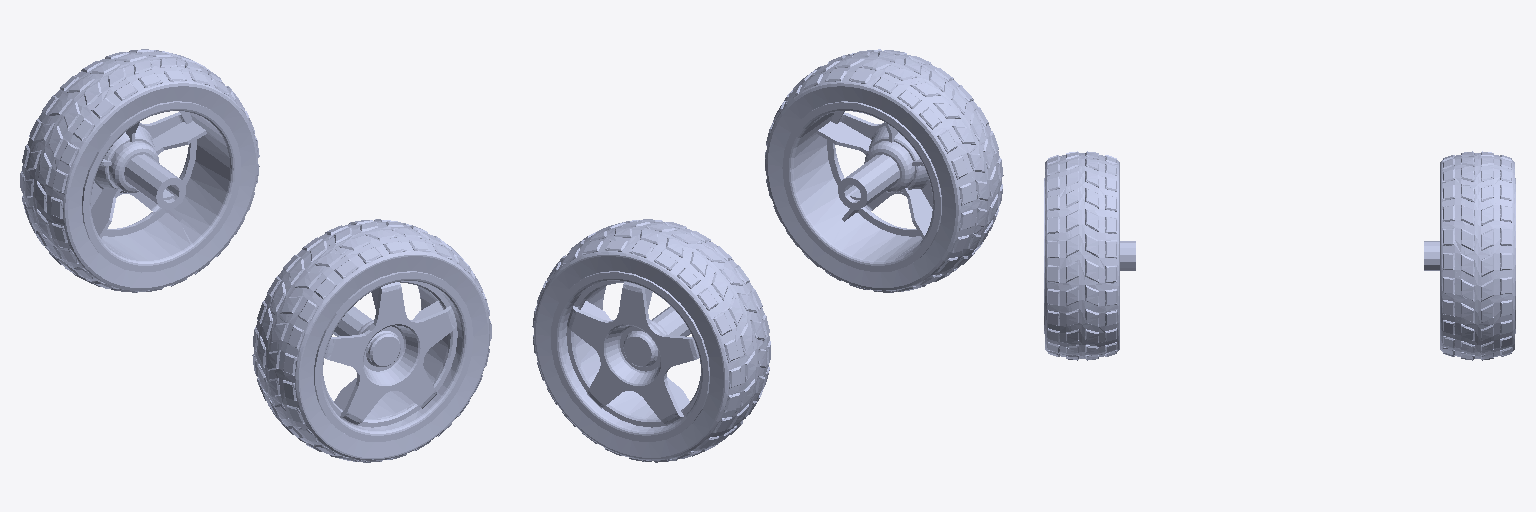
robot.urdf — Atlas:
<?xml version="1.0" encoding="utf-8"?>
<!-- This URDF was automatically created by SolidWorks to URDF Exporter! Originally created by [author] ([email redacted]) 
     Commit Version: 1.6.0-1-g15f4949  Build Version: 1.6.7594.29634
     For more information, please see http://wiki.ros.org/sw_urdf_exporter 
     
     This version contains CONTINUOUS joints for visualization. It also contains a dummy link-->
<robot
  name="Atlas">
  <!-- Create a dummy link -->
  <link name="dummy_link"/>
  <joint name="dummy_joint" type="fixed">
    <parent link="dummy_link"/>
    <child link="base"/>
  </joint>
  <link
    name="base">
    <inertial>
      <origin
        xyz="-0.000212909415452442 0.0141353979927346 0.0286449785299869"
        rpy="1.5708 0 -1.5708" />
      <mass
        value="0.499281541152724" />
      <inertia
        ixx="0.0003977555784519"
        ixy="-1.28352546731864E-06"
        ixz="-1.07524080810202E-08"
        iyy="0.000455844917654945"
        iyz="3.25184720260079E-07"
        izz="0.000828962036935886" />
    </inertial>
    <visual>
      <origin
        xyz="0 0 0"
        rpy="1.5708 0 -1.5708" />
      <geometry>
        <mesh
          filename="package://cs133a_project/meshes/base_link.obj" />
      </geometry>
      <material
        name="">
        <color
          rgba="0.792156862745098 0.819607843137255 0.933333333333333 1" />
      </material>
    </visual>
    <collision>
      <origin
        xyz="0 0 0"
        rpy="1.5708 0 -1.5708" />
      <geometry>
        <mesh
          filename="package://cs133a_project/meshes/base_link.obj" />
      </geometry>
    </collision>
  </link>
  <link
    name="lwheel">
    <inertial>
      <origin
        xyz="-1.87554312358618E-10 1.86289956377594E-08 0.018127012381905"
        rpy="0 0 0" />
      <mass
        value="0.166945648009266" />
      <inertia
        ixx="6.72926923359967E-05"
        ixy="2.20526901917458E-10"
        ixz="9.50965859543208E-15"
        iyy="6.72964003560096E-05"
        iyz="-3.21802216170622E-12"
        izz="0.000113206411587865" />
    </inertial>
    <visual>
      <origin
        xyz="0 0 0"
        rpy="0 0 0" />
      <geometry>
        <mesh
          filename="package://cs133a_project/meshes/wheel.obj" />
      </geometry>
      <material
        name="">
        <color
          rgba="0.792156862745098 0.819607843137255 0.933333333333333 1" />
      </material>
    </visual>
    <collision>
      <origin
        xyz="0 0 0"
        rpy="0 0 0" />
      <geometry>
        <mesh
          filename="package://cs133a_project/meshes/wheel.obj" />
      </geometry>
    </collision>
  </link>
  <joint
    name="lwheel_joint"
    type="continuous">
    <origin
      xyz="0.0459 0.0776 -0.013"
      rpy="1.5708 0 -3.1415" />
    <parent
      link="base" />
    <child
      link="lwheel" />
    <axis
      xyz="0 0 1" />
  </joint>
  <link
    name="rwheel">
    <inertial>
      <origin
        xyz="1.86223433409904E-08 -6.26257727967539E-10 0.0181270123819041"
        rpy="0 0 0" />
      <mass
        value="0.166945648008949" />
      <inertia
        ixx="6.72963740376347E-05"
        ixy="-3.81485680665361E-10"
        ixz="-3.20558006910943E-12"
        iyy="6.72927186542622E-05"
        iyz="1.10863396748118E-13"
        izz="0.000113206411587755" />
    </inertial>
    <visual>
      <origin
        xyz="0 0 0"
        rpy="0 0 0" />
      <geometry>
        <mesh
          filename="package://cs133a_project/meshes/wheel.obj" />
      </geometry>
      <material
        name="">
        <color
          rgba="0.792156862745098 0.819607843137255 0.933333333333333 1" />
      </material>
    </visual>
    <collision>
      <origin
        xyz="0 0 0"
        rpy="0 0 0" />
      <geometry>
        <mesh
          filename="package://cs133a_project/meshes/wheel.obj" />
      </geometry>
    </collision>
  </link>
  <joint
    name="rwheel_joint"
    type="continuous">
    <origin
      xyz="0.0459 -0.0776 -0.013"
      rpy="1.5708 0 0"  />
    <parent
      link="base" />
    <child
      link="rwheel" />
    <axis
      xyz="0 0 1" />
  </joint>
</robot>

--- Facts derived from the render (not from the file) ---
The picture shows the robot from 3 angles, left to right: view 1: azimuth 30°, elevation 25°; view 2: azimuth 150°, elevation 25°; view 3: azimuth 270°, elevation 25°; orthographic projection.
Model Atlas with 4 links and 3 joints (2 continuous, 1 fixed), rooted at dummy_link, posed all joints at 0.
Visible links, largest first — view 1: lwheel, rwheel; view 2: rwheel, lwheel; view 3: rwheel, lwheel.
Link boxes in pixels (box(x1,y1,x2,y2)): lwheel: box(20, 49, 259, 292); rwheel: box(252, 219, 491, 462); rwheel: box(765, 49, 1003, 292); lwheel: box(532, 219, 770, 462); rwheel: box(1044, 151, 1135, 360); lwheel: box(1424, 151, 1515, 360).
Size in the robot's own frame: 0.0689 by 0.1552 by 0.0688 metres.
Meshes: 2 distinct files referenced, 2 mesh visuals loaded (1 OBJ); not drawn: 1 (reference not matched to a file when rendering).